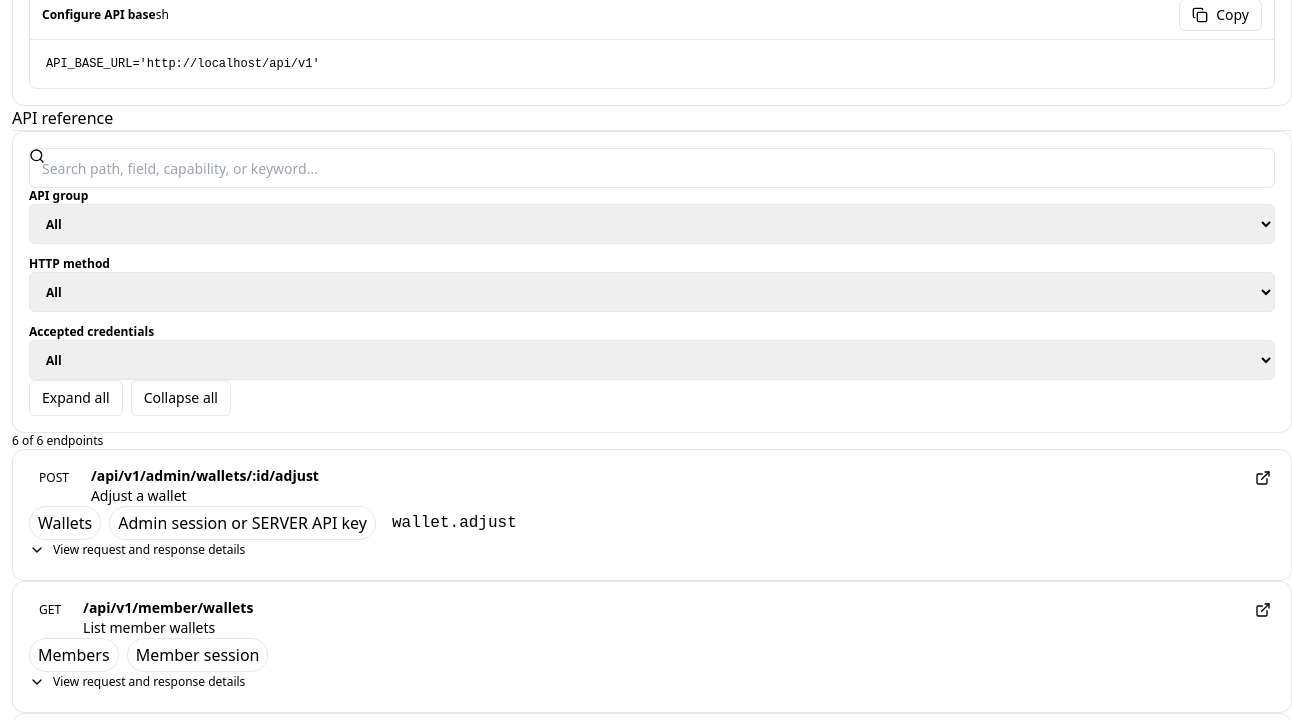
Test: developer documentation › labels and filters endpoints from their accepted credentials instead of a mode-only label
(page scrolled)
Select "Member session" in the dropdown labelled "Accepted credentials": (652, 360) [29,340,1275,380]
(page scrolled)
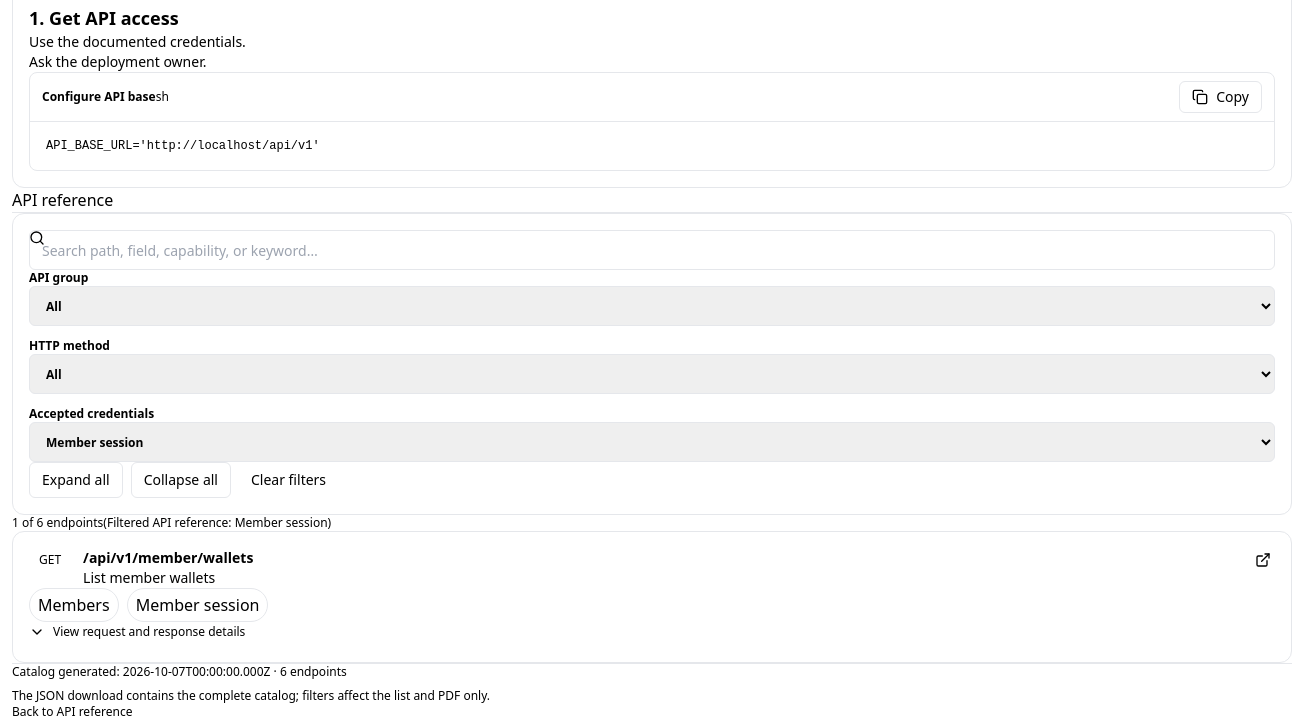
Expected: the heading "/api/v1/member/wallets" is shown, [83,548,253,567]
Now the heading "/api/v1/admin/wallets/:id/adjust" is gone
